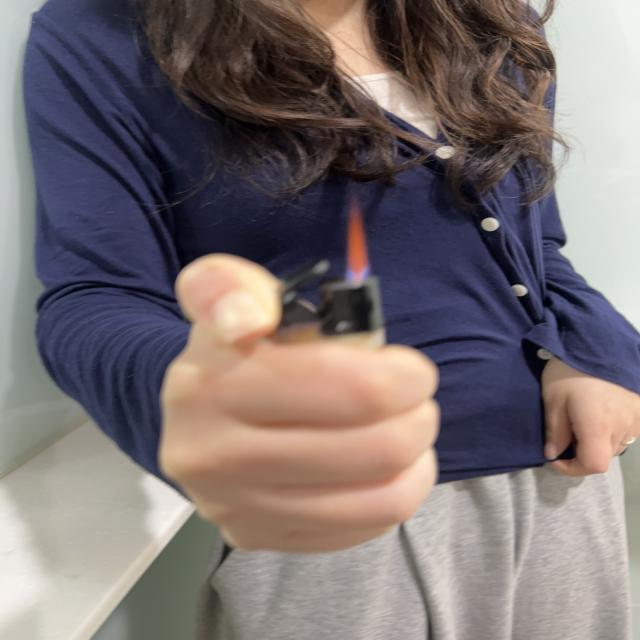fire: (344, 194, 372, 286)
